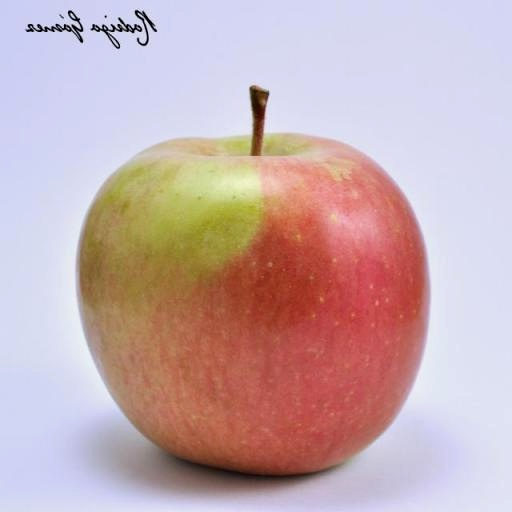fruit: (77, 90, 427, 474)
